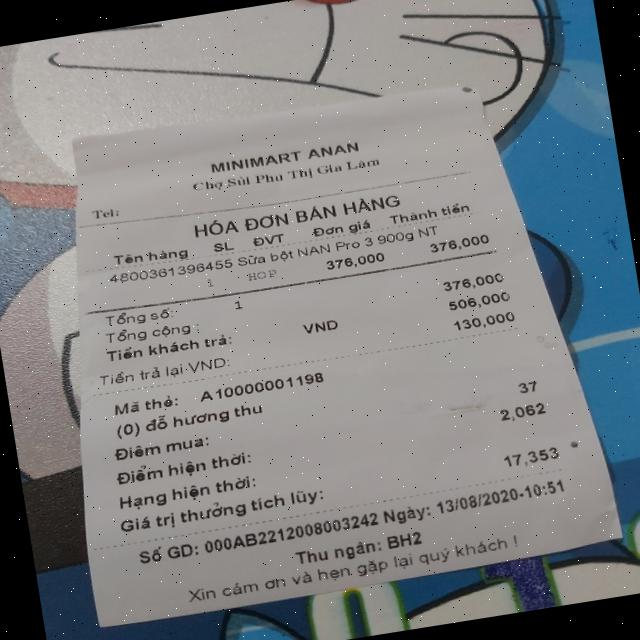Date: (432, 485, 522, 514)
Store_Name: (205, 134, 368, 178)
amount_number: (438, 266, 512, 294)
label_total: (98, 315, 201, 351)
